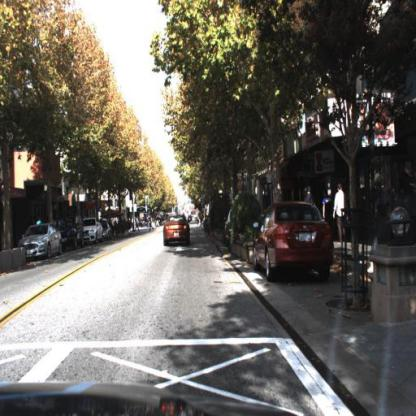car: (252, 198, 336, 284), (18, 224, 63, 262), (53, 212, 85, 252), (57, 212, 85, 253), (163, 212, 193, 248), (84, 215, 102, 247), (100, 215, 112, 243)
pedestrian: (334, 183, 350, 250), (306, 186, 317, 213), (135, 214, 142, 237), (35, 217, 43, 230), (149, 216, 154, 234), (38, 218, 43, 226)
